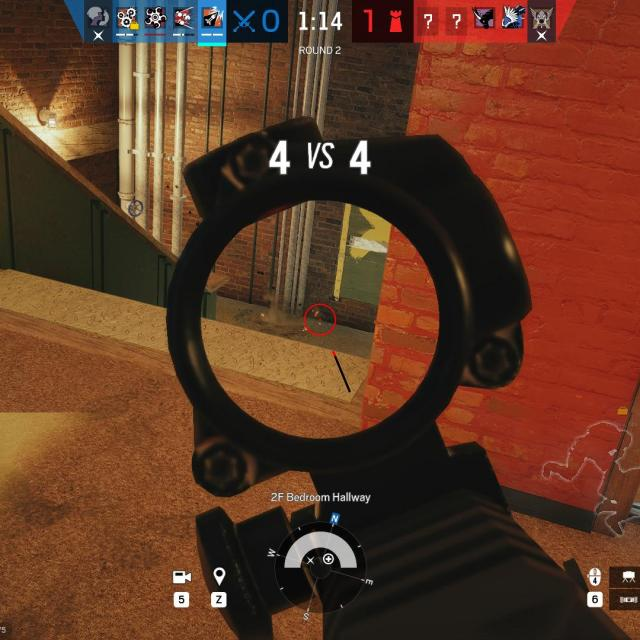Friend_label: (606, 406, 638, 428)
